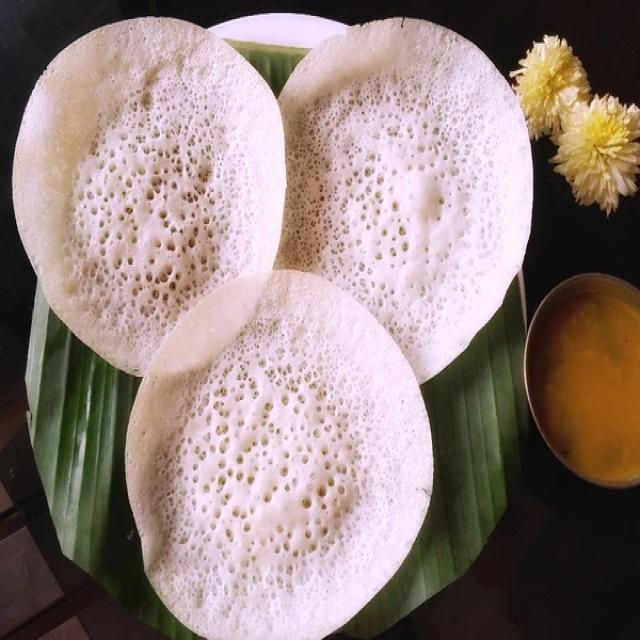AAPAM: (13, 17, 532, 639)
SAMBAR: (524, 273, 639, 486)
